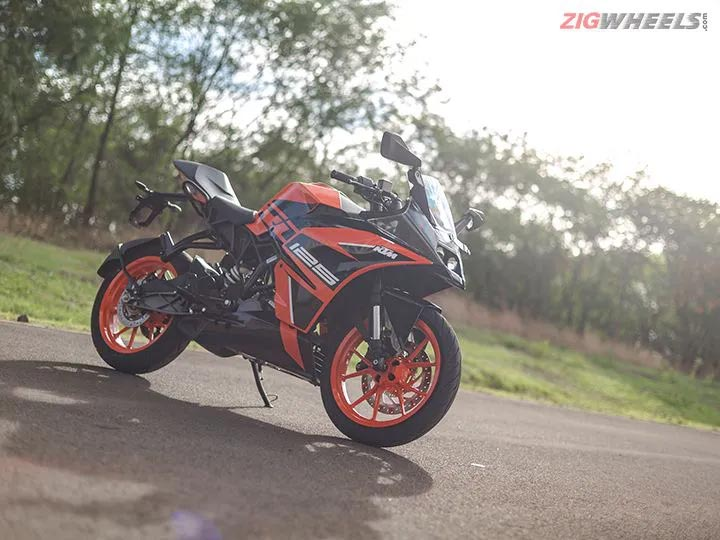bike: (85, 136, 480, 393)
